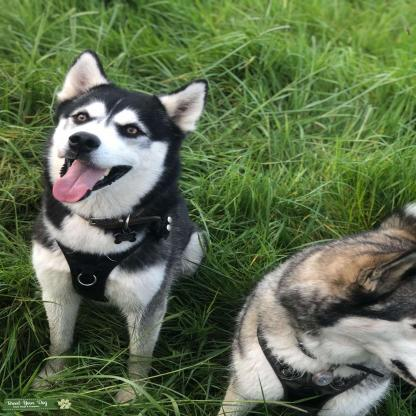dog: (26, 52, 216, 400), (234, 202, 416, 416)
